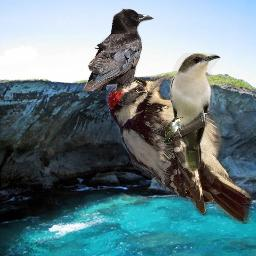Crow: (82, 8, 154, 91)
Cuckoo: (170, 53, 221, 173), (164, 116, 183, 143)
Woodpecker: (106, 74, 252, 224)
